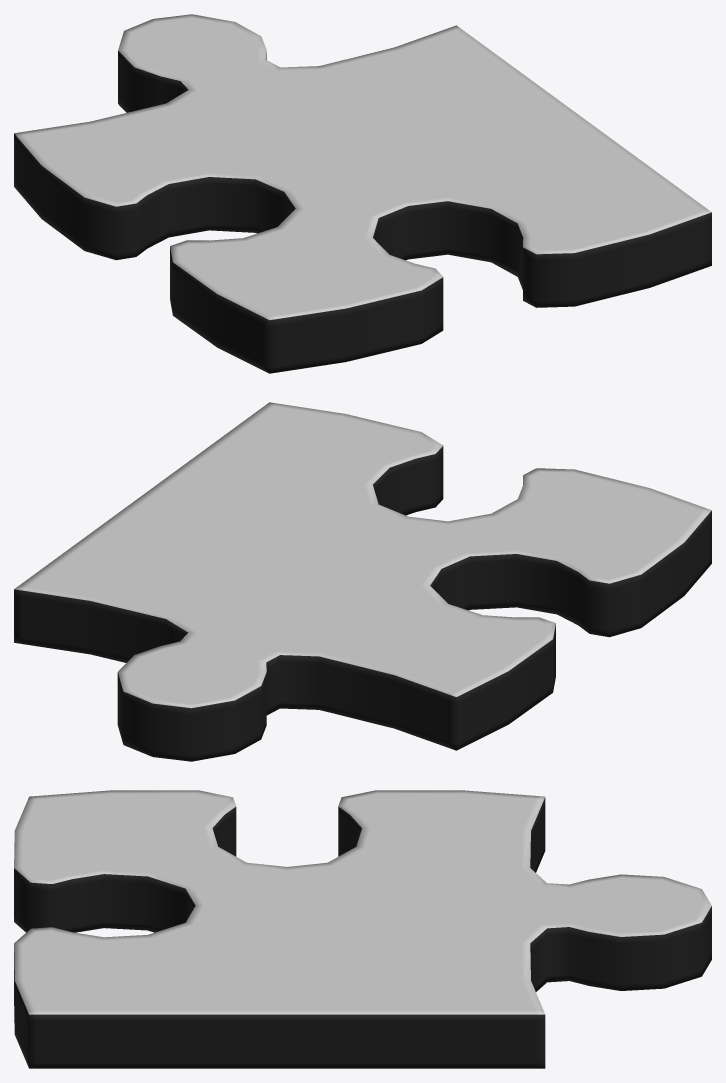
3 renders of one model, top to bottom at view 1: azimuth 30°, elevation 25°; view 2: azimuth 150°, elevation 25°; view 3: azimuth 270°, elevation 25°, orthographic.
Visible parts, largest first — view 1: puzzle55; view 2: puzzle55; view 3: puzzle55.
Part boxes in pixels (left/top/right/bottom): puzzle55: left=14, top=14, right=711, bottom=373; puzzle55: left=14, top=402, right=711, bottom=761; puzzle55: left=14, top=790, right=711, bottom=1068.
Bounding box in the file's own units: 3.07 × 0.344 × 4.03.
